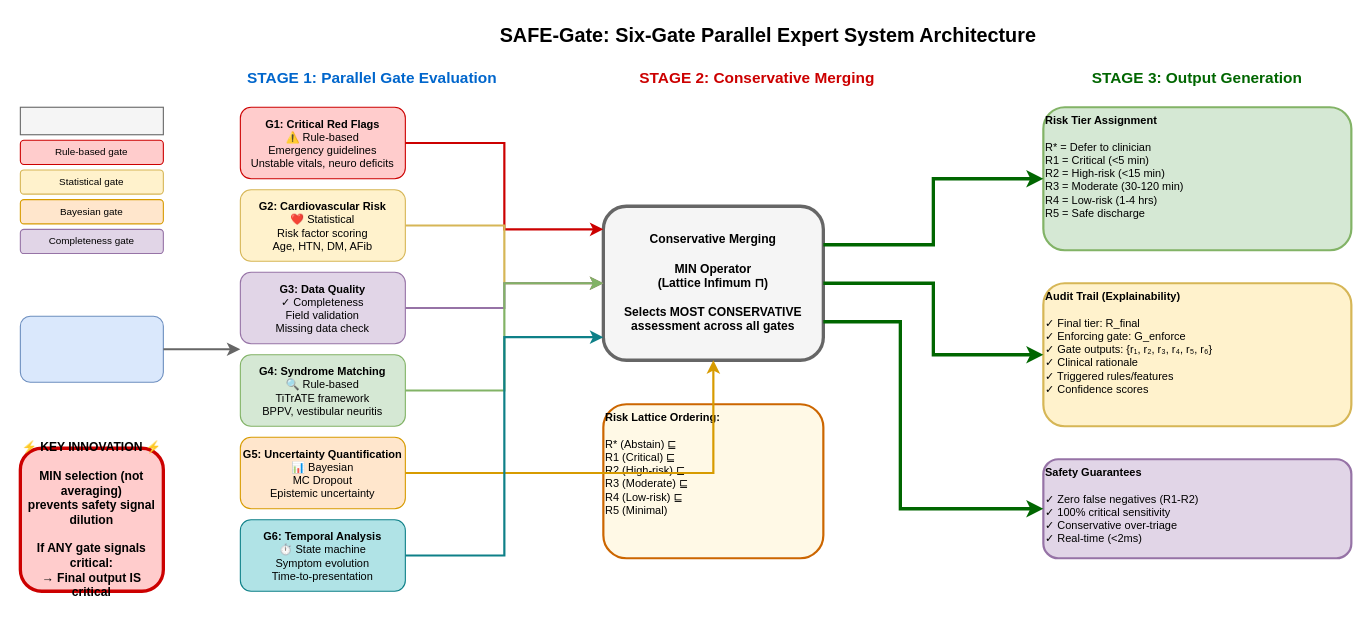
The diagram is 1372 pixels wide and 618 high, and some of its shapes have lost their labels. Here are the shapes that lost their labels. From the top down, the centre of each, then its label:
At (91,120): "LEGEND".
At (91,348): "Patient Clinical Data (52 features)".
